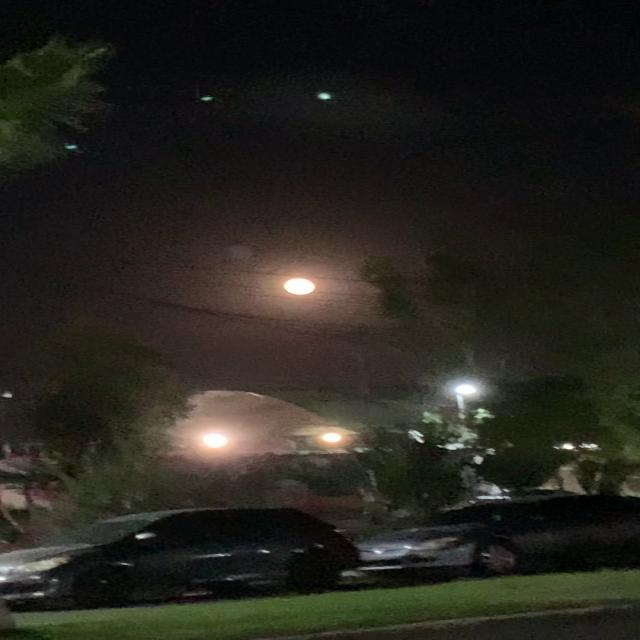moon: (262, 268, 328, 308)
